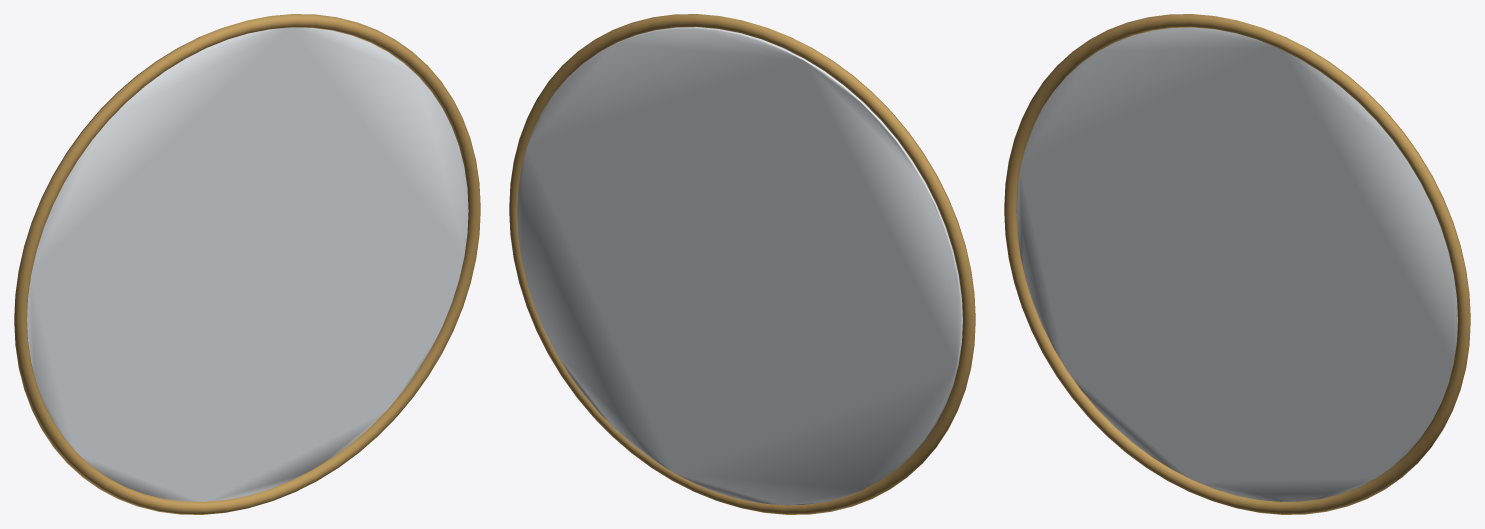
File: mirror.glb
3 views of the same model, side by side, from view 1: azimuth 30°, elevation 25°; view 2: azimuth 150°, elevation 25°; view 3: azimuth 330°, elevation 25° (orthographic).
Parts seen in each view (by area): view 1: Round mirror glass, Round mirror rim; view 2: Round mirror glass, Round mirror rim; view 3: Round mirror glass, Round mirror rim.
Boxes of the visible parts, x1,y1,x2,y2 form: Round mirror glass: [27, 27, 468, 501]; Round mirror rim: [14, 14, 480, 514]; Round mirror glass: [517, 27, 962, 505]; Round mirror rim: [509, 14, 975, 514]; Round mirror glass: [1016, 27, 1457, 501]; Round mirror rim: [1004, 14, 1470, 514].
Bounding box in the file's own units: 0.882 × 0.882 × 0.0214.
Materials: 2 (2 with a texture image).
